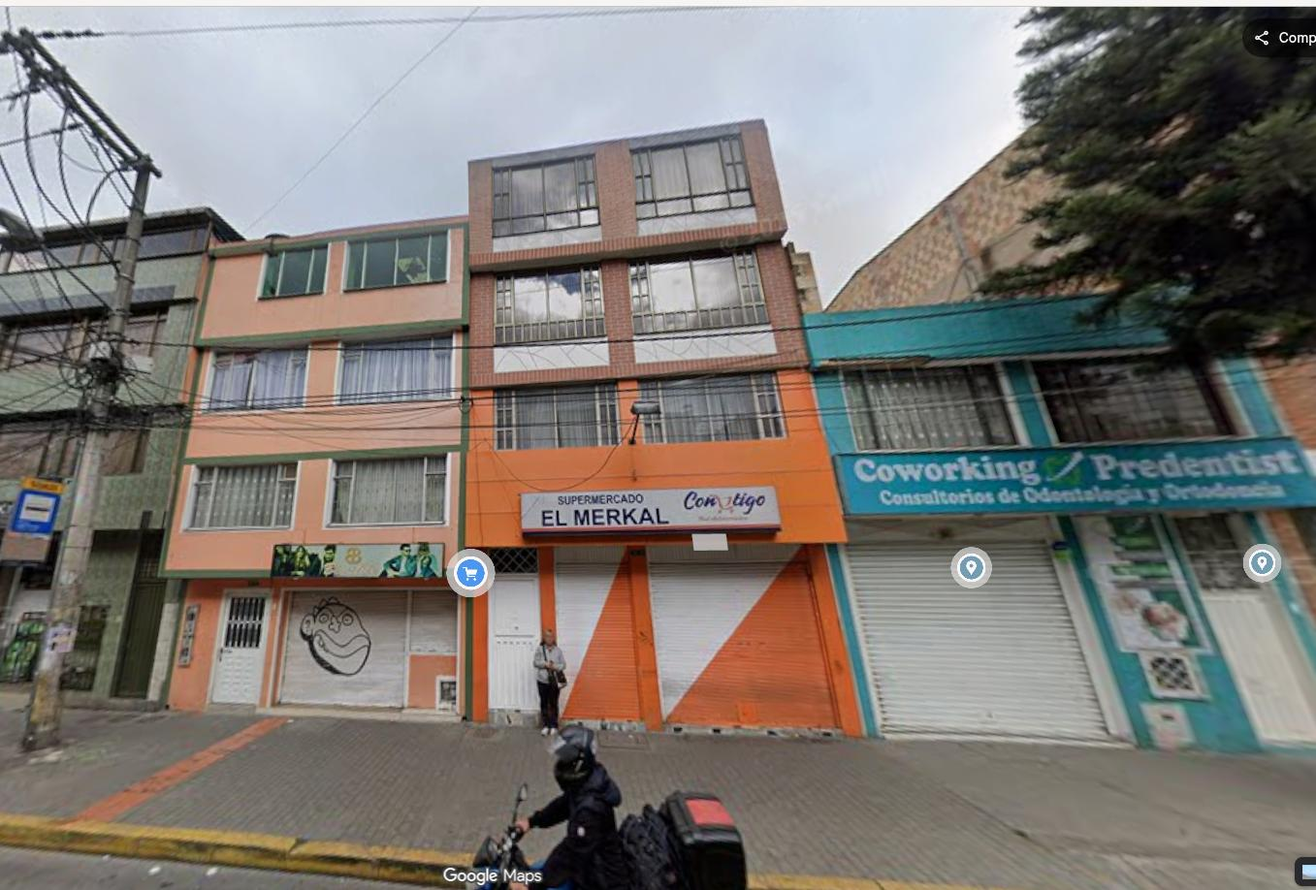casa: (465, 121, 860, 733), (804, 297, 1315, 749), (165, 217, 472, 709)
poste: (8, 32, 157, 639), (22, 642, 64, 749)
